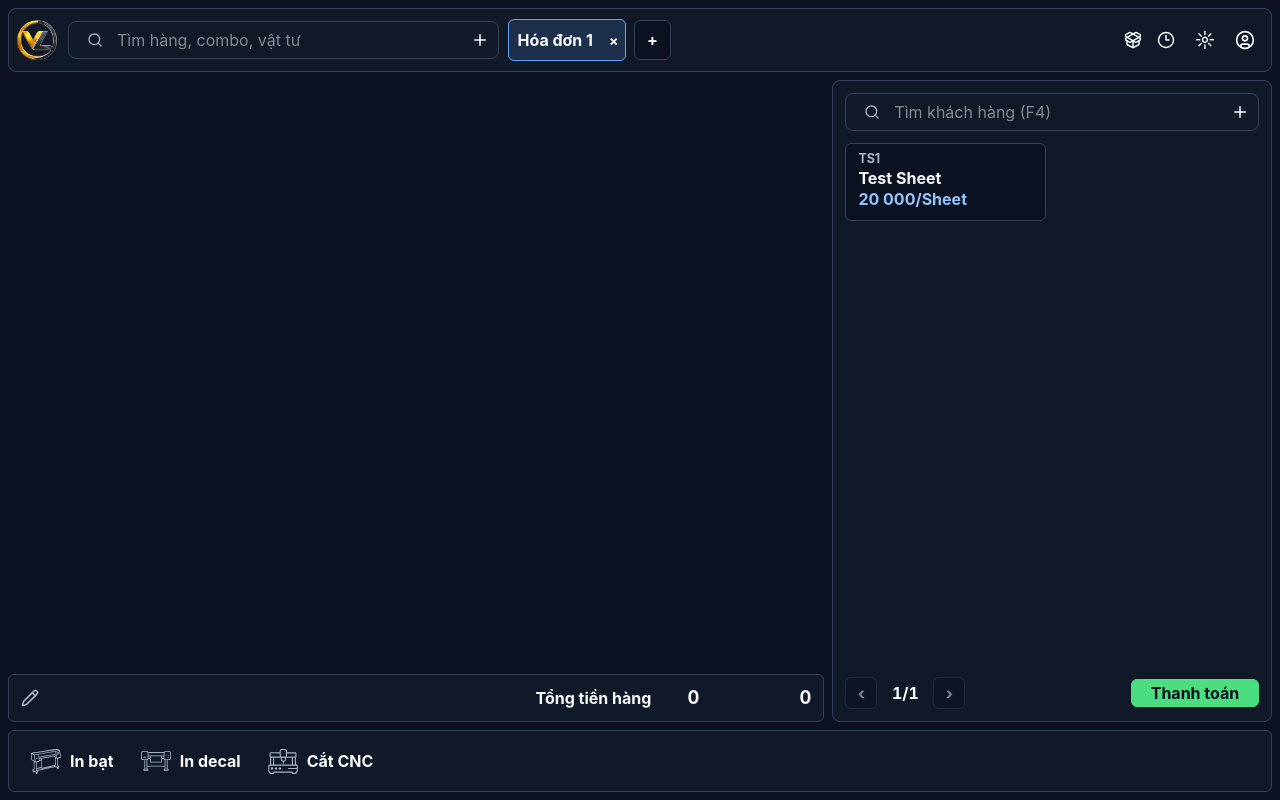
Test: keeps converted unit prices when customer change refreshes automatic prices
The width and height of the screenshot is (1280, 800).
Click the button "TS1 Test Sheet 20 000/Sheet". click: (946, 182)
box: [845, 143, 1046, 221]
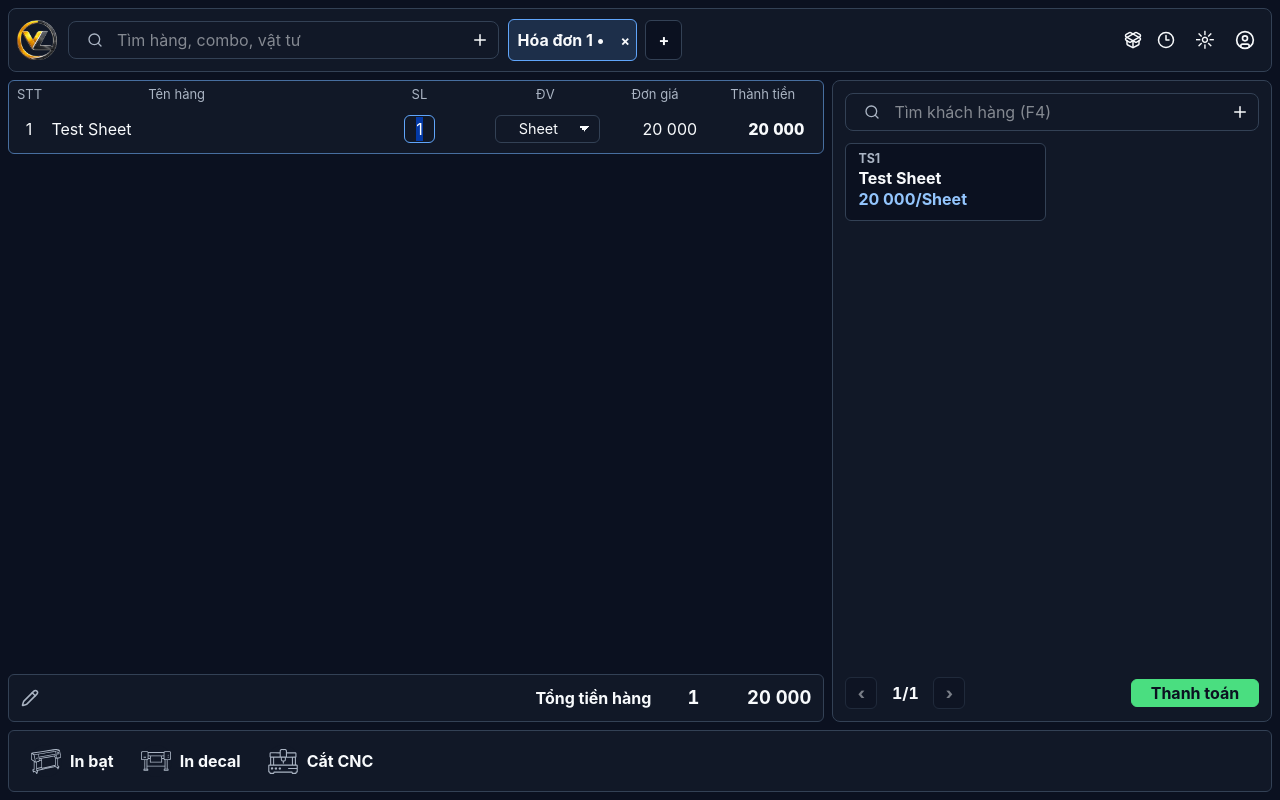
Select "Half Sheet" in the dropdown named "Test Sheet". click: (547, 128)
box: [495, 114, 600, 142]
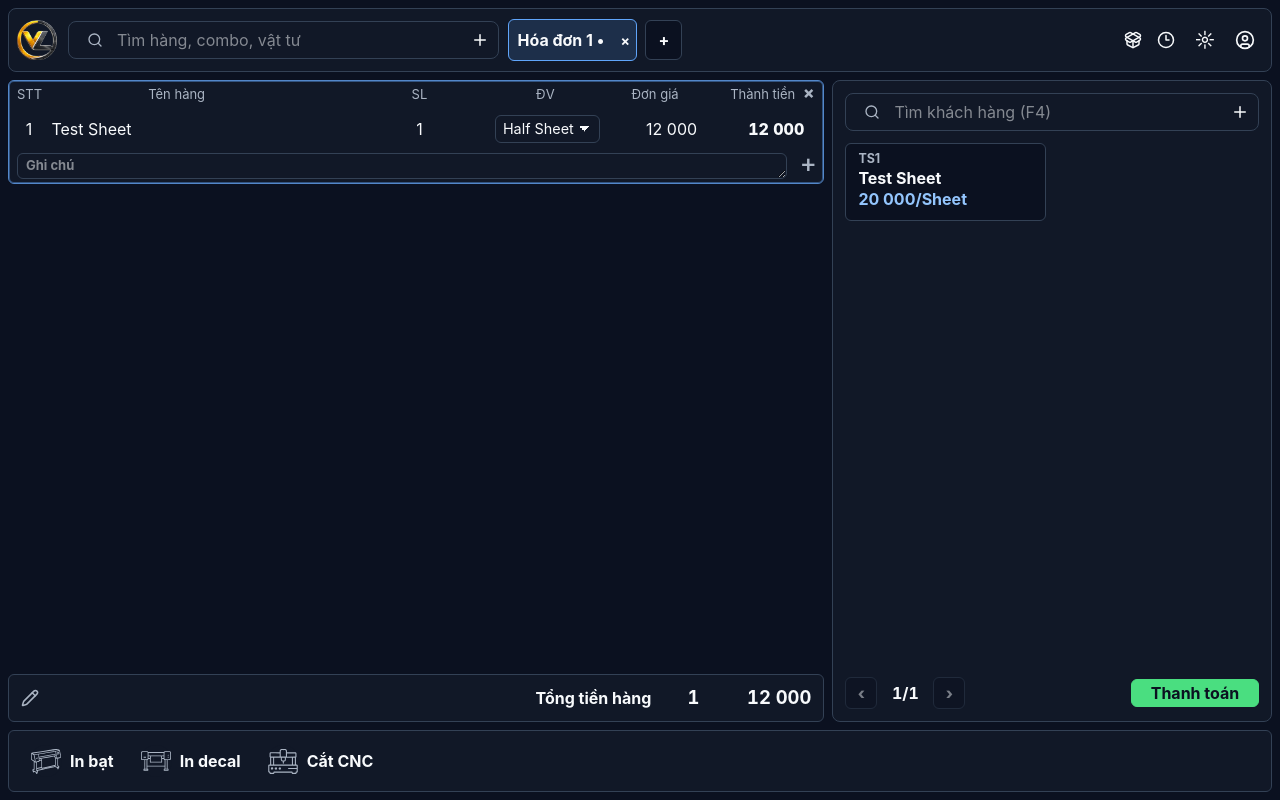
Check: the field named "Đơn giá Test Sheet" holds "12 000", box [636, 114, 704, 142]
Type "khach" into the field labelled "Tìm khách". click: (1052, 112)
box: [846, 94, 1258, 130]
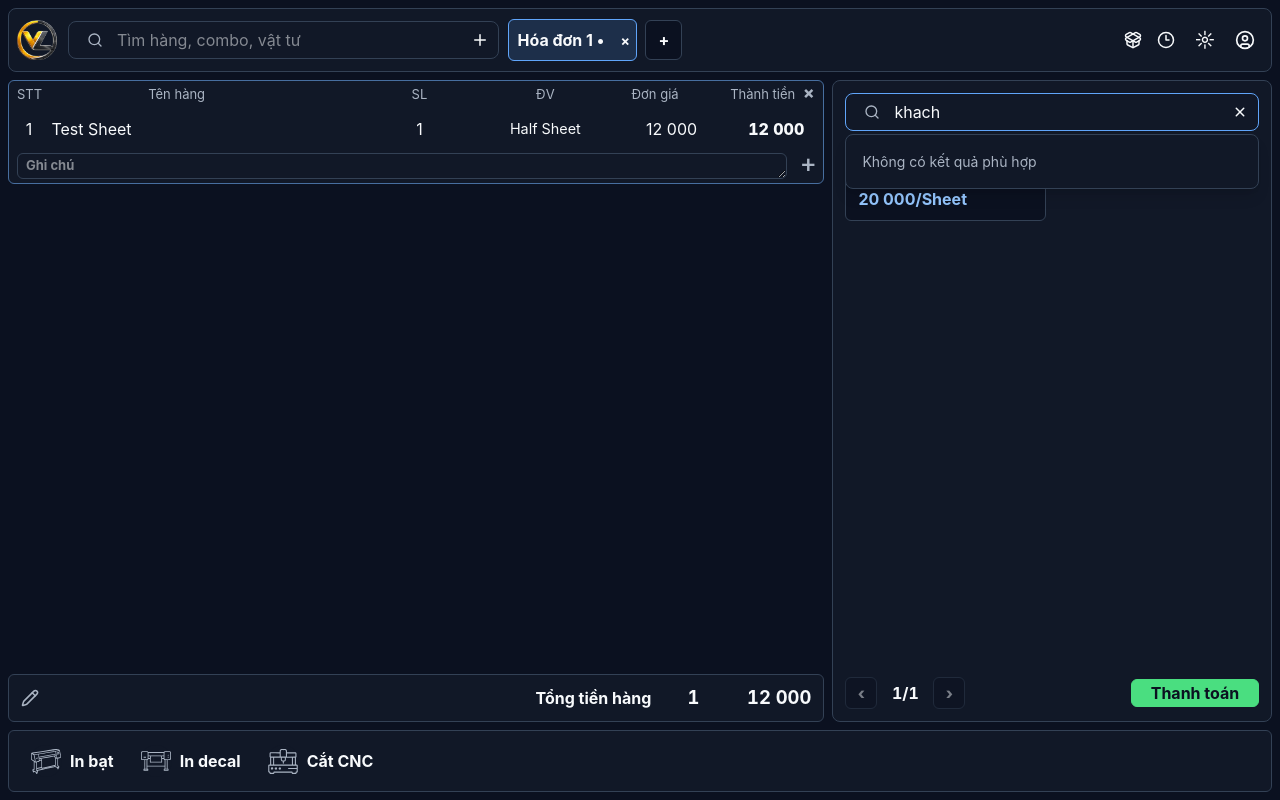
Press Enter
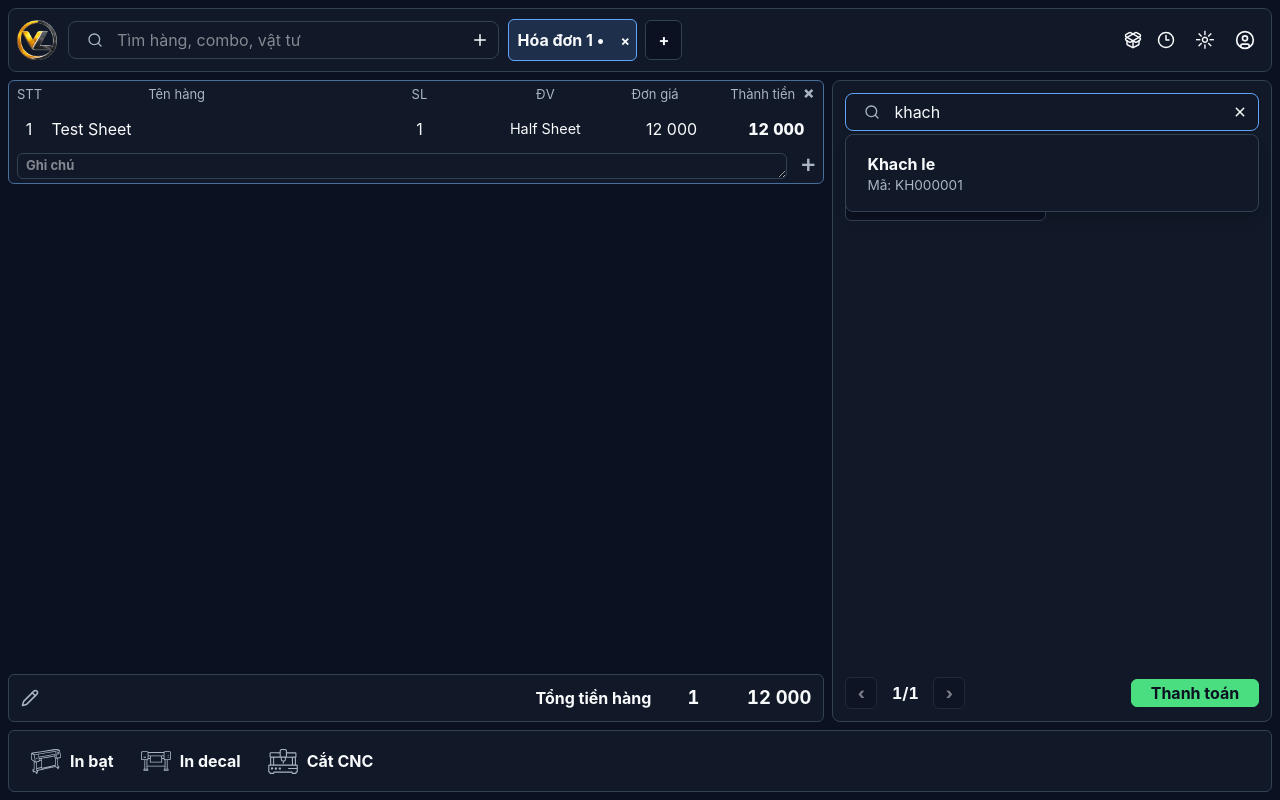
Click the option with aria-label "Chọn KH000001 Khach le". click: (901, 164)
box: [854, 143, 1250, 203]
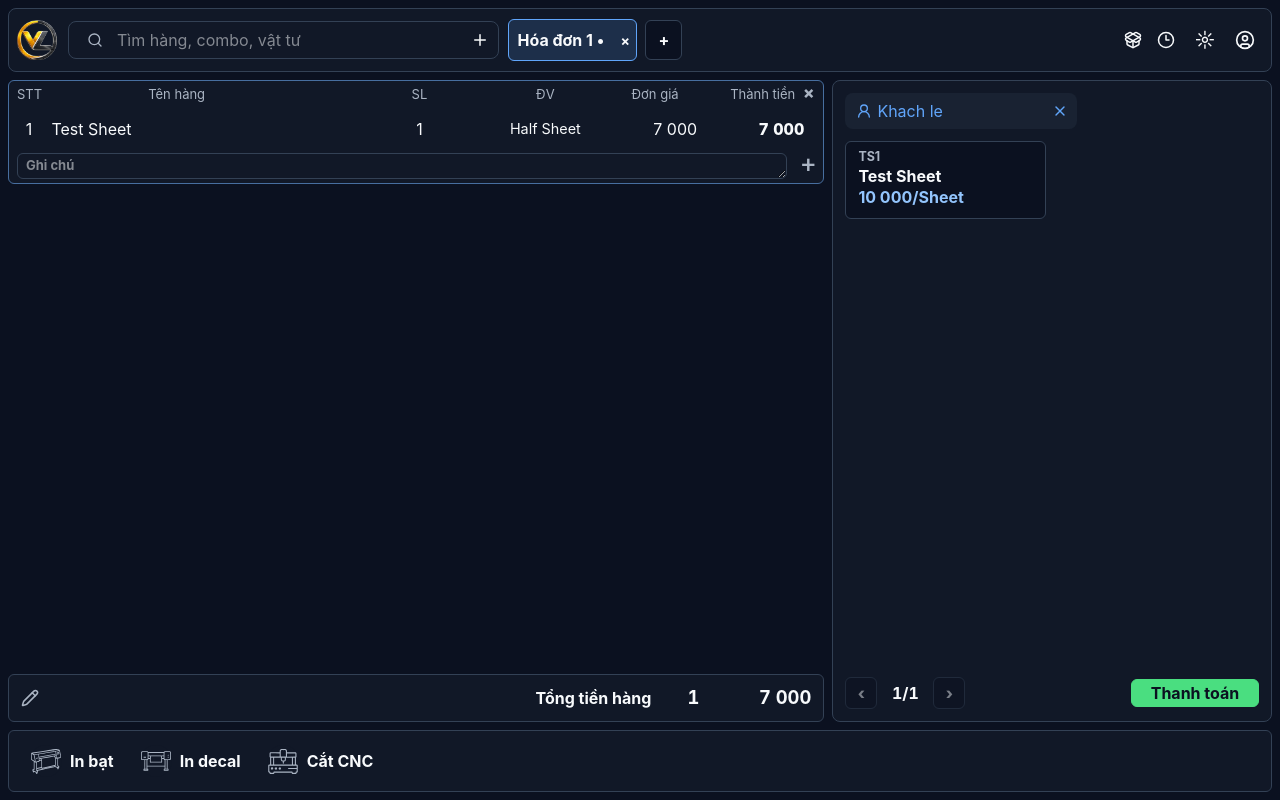
Check: the field named "Đơn giá Test Sheet" holds "7 000", box [646, 114, 704, 142]
